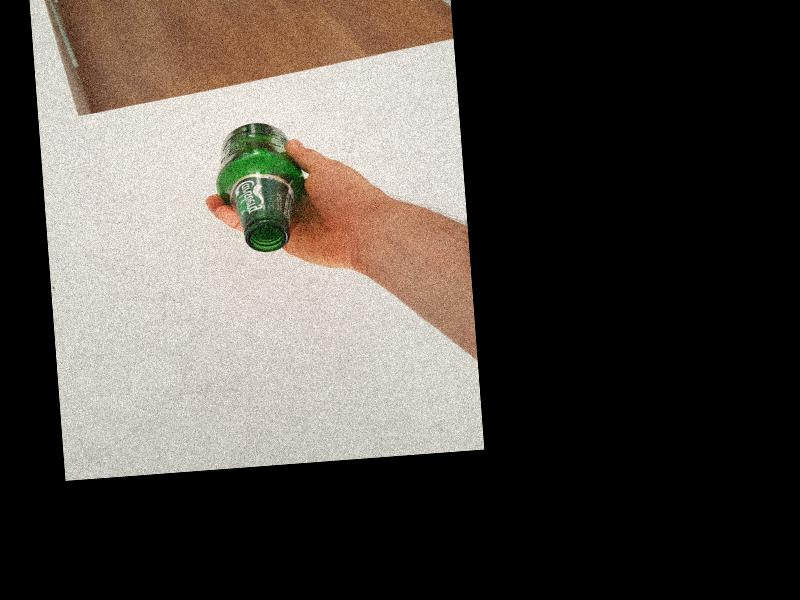Beer: (213, 119, 307, 255)
